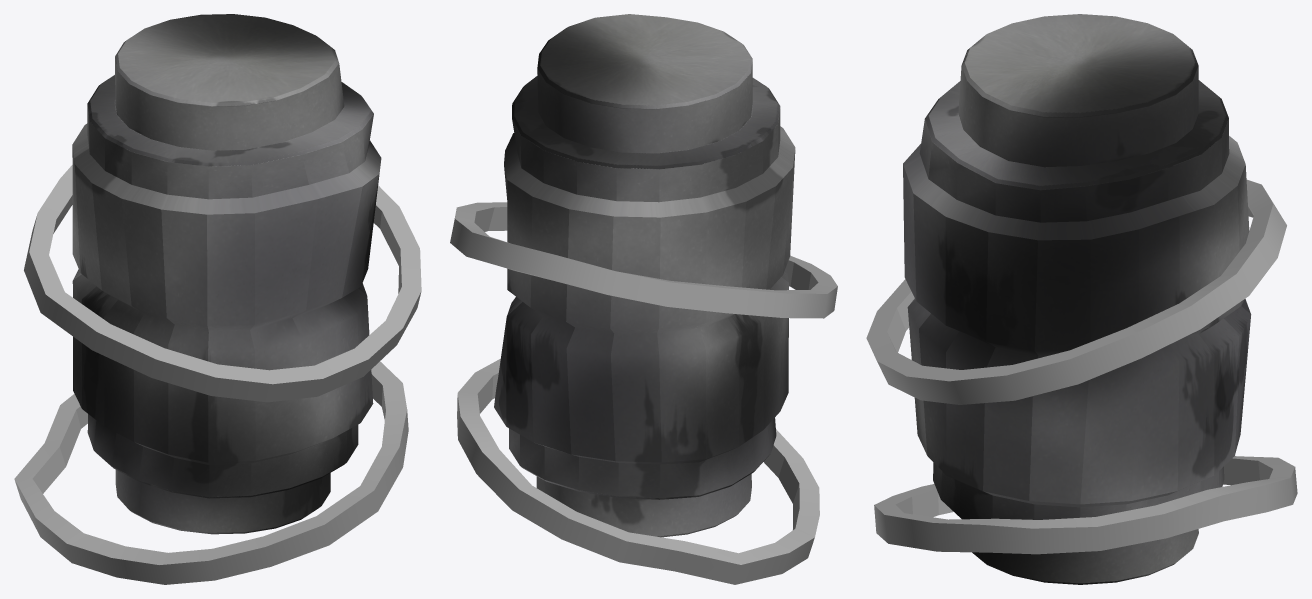
File: GeradorPassandoMal.fbx
3 renders of one model, left to right at view 1: azimuth 30°, elevation 25°; view 2: azimuth 150°, elevation 25°; view 3: azimuth 270°, elevation 25°, orthographic. The views are drawn at different scales.
Parts seen in each view (by area): view 1: pCylinder15, pCylinder17; view 2: pCylinder15, pCylinder17; view 3: pCylinder15, pCylinder17.
Boxes of the visible parts, x1,y1,x2,y2 form: pCylinder15: (72, 14, 381, 534); pCylinder17: (14, 165, 421, 584); pCylinder15: (494, 14, 795, 537); pCylinder17: (450, 202, 837, 584); pCylinder15: (903, 14, 1251, 584); pCylinder17: (866, 179, 1297, 554).
Size of the model in its own units: 41.17 by 51.48 by 39.54.
Materials: 2 (1 with a texture image).
